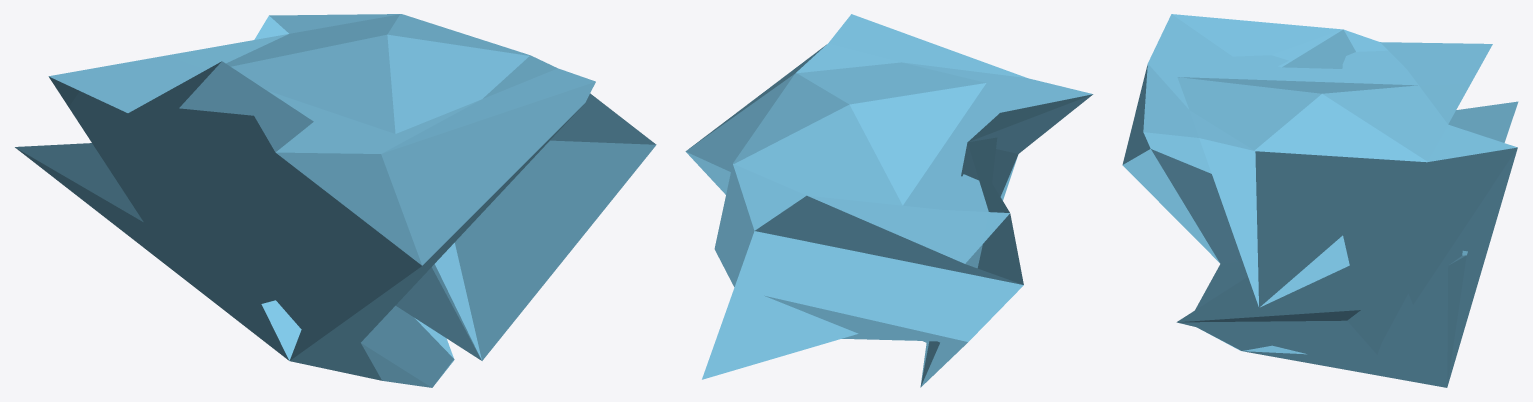
Rendered from secret.fbx.
The picture shows the model from 3 angles, left to right: view 1: azimuth 30°, elevation 25°; view 2: azimuth 150°, elevation 25°; view 3: azimuth 270°, elevation 25°; orthographic projection. The views are drawn at different scales.
Visible parts, largest first — view 1: Cube; view 2: Cube; view 3: Cube.
Part boxes in pixels (x1,y1,x2,y2): Cube: (15,14,656,387); Cube: (685,14,1093,387); Cube: (1122,14,1518,387).
Bounding box in the file's own units: 298 × 183 × 246.
